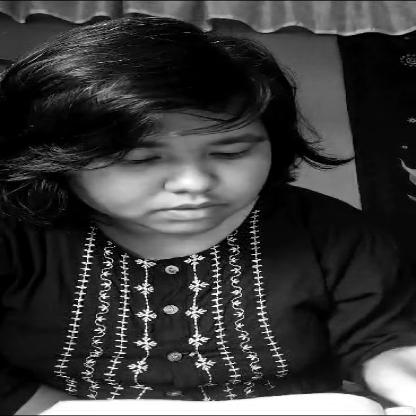Normal: (62, 87, 285, 242)
